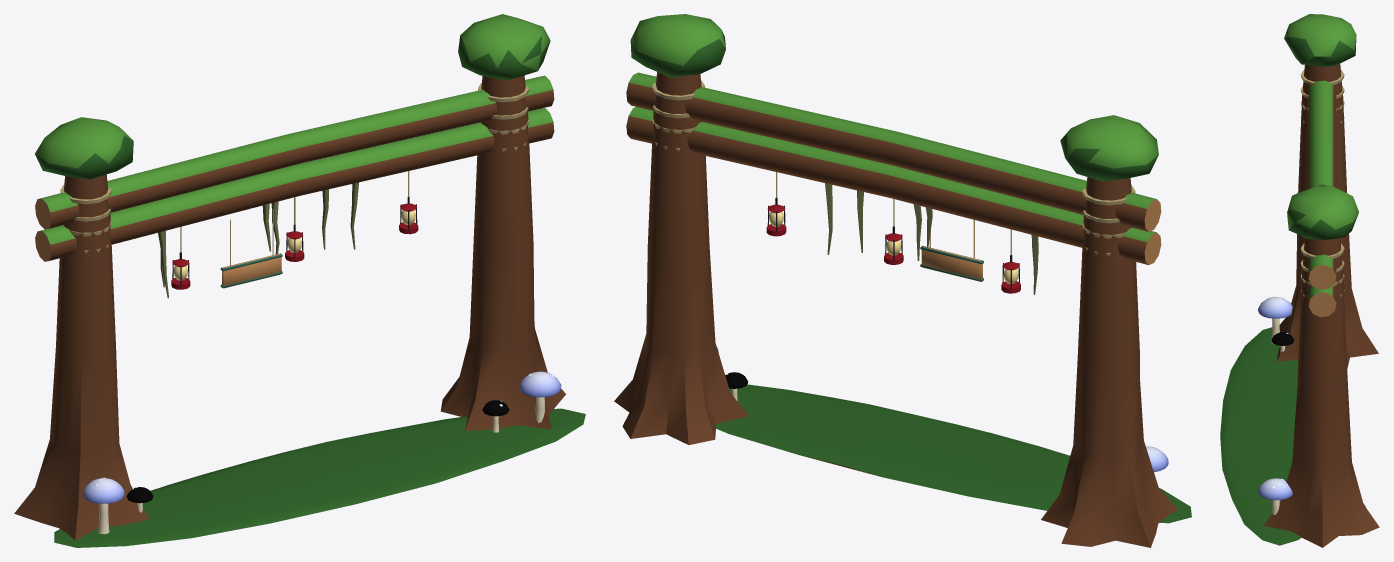
The model's file is SwampGate.fbx.
The picture shows the model from 3 angles, left to right: view 1: azimuth 30°, elevation 25°; view 2: azimuth 150°, elevation 25°; view 3: azimuth 270°, elevation 25°; orthographic projection. The views are drawn at different scales.
Parts seen in each view (by area): view 1: SwampGate; view 2: SwampGate; view 3: SwampGate.
Boxes of the visible parts, x1,y1,x2,y2 form: SwampGate: (14,14,585,547); SwampGate: (614,14,1191,547); SwampGate: (1220,14,1379,547).
Bounding box in the file's own units: 11.31 × 7.77 × 3.42.
2 materials, 2 textured.
